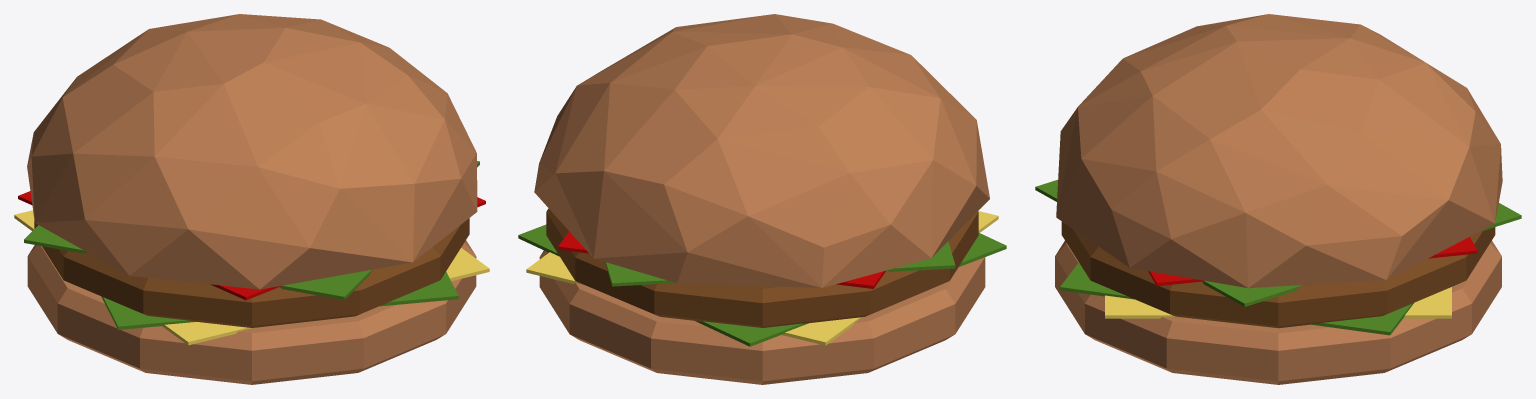
Rendered from Burger.glb.
The picture shows the model from 3 angles, left to right: view 1: azimuth 30°, elevation 25°; view 2: azimuth 150°, elevation 25°; view 3: azimuth 270°, elevation 25°; orthographic projection.
Visible parts, largest first — view 1: Burger; view 2: Burger; view 3: Burger.
Part boxes in pixels (<box>): Burger: <box>14,14,489,384</box>; Burger: <box>518,14,1006,384</box>; Burger: <box>1035,14,1521,384</box>.
Bounding box in the file's own units: 0.3746 × 0.212 × 0.3746.
1 material, 1 textured.
